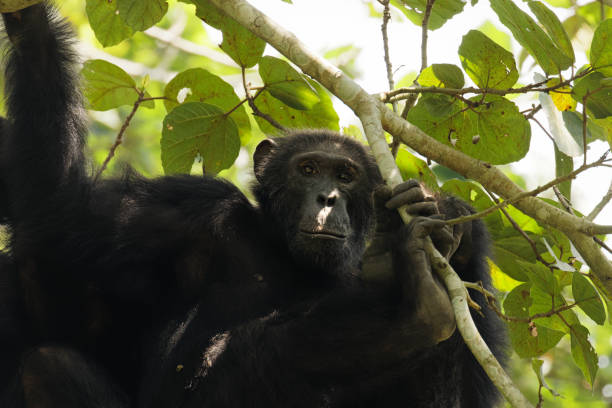chimpanzee: (234, 119, 400, 290)
